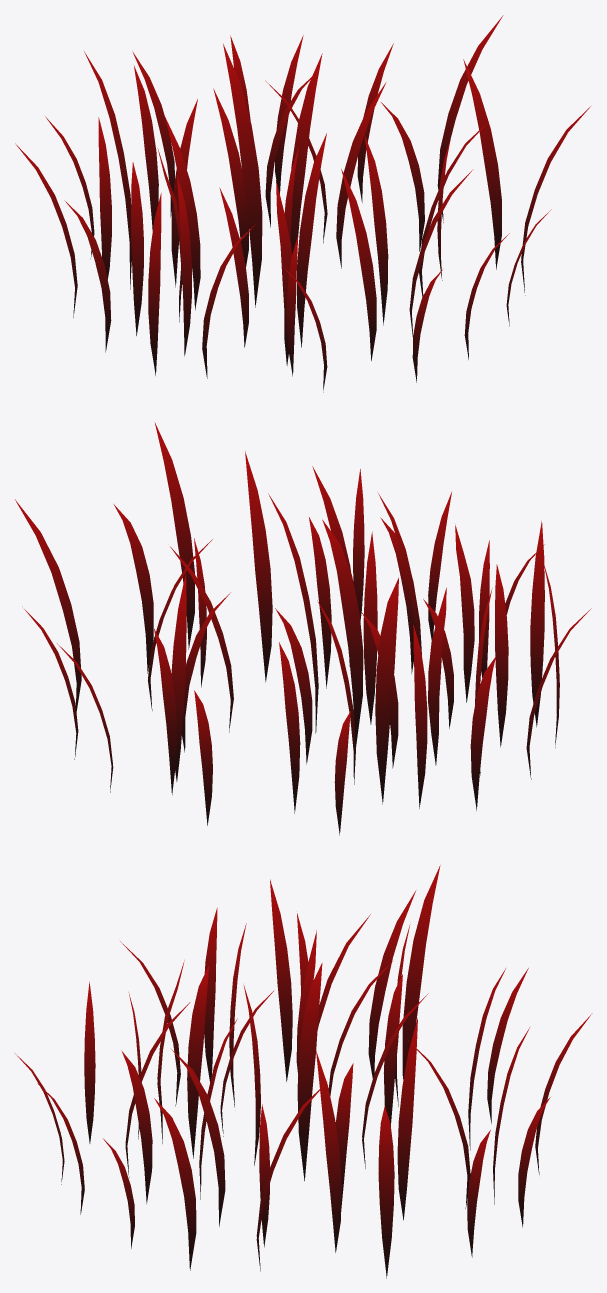
File: Grass.fbx
The picture shows the model from 3 angles, top to bottom: view 1: azimuth 30°, elevation 25°; view 2: azimuth 150°, elevation 25°; view 3: azimuth 270°, elevation 25°; orthographic projection. The views are drawn at different scales.
Parts seen in each view (by area): view 1: Grass; view 2: Grass; view 3: Grass.
Boxes of the visible parts, box(x1,y1,x2,y2) form: Grass: box(15, 15, 590, 392); Grass: box(15, 422, 591, 835); Grass: box(15, 865, 592, 1278).
Bounding box in the file's own units: 3.44 × 1.6 × 3.35.
